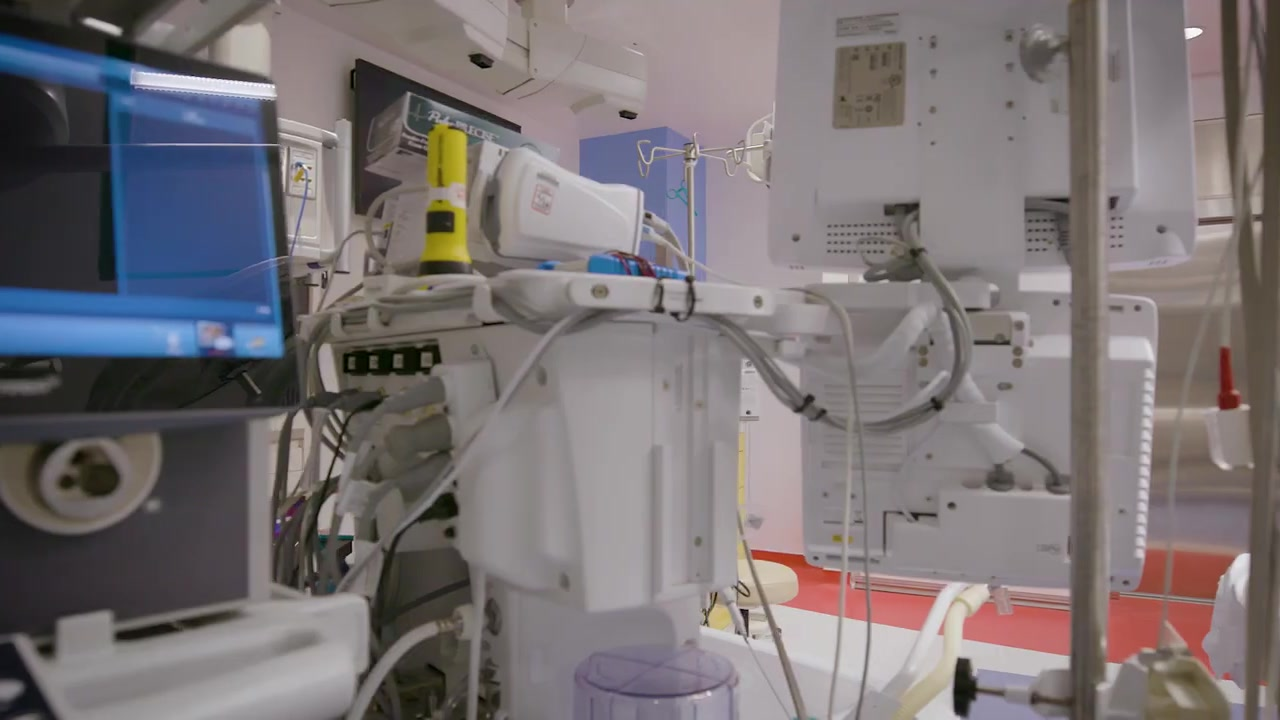bedside_monitor: (767, 1, 1199, 278), (1, 32, 300, 418), (798, 281, 1162, 593)
iv_pole: (631, 126, 751, 280)
